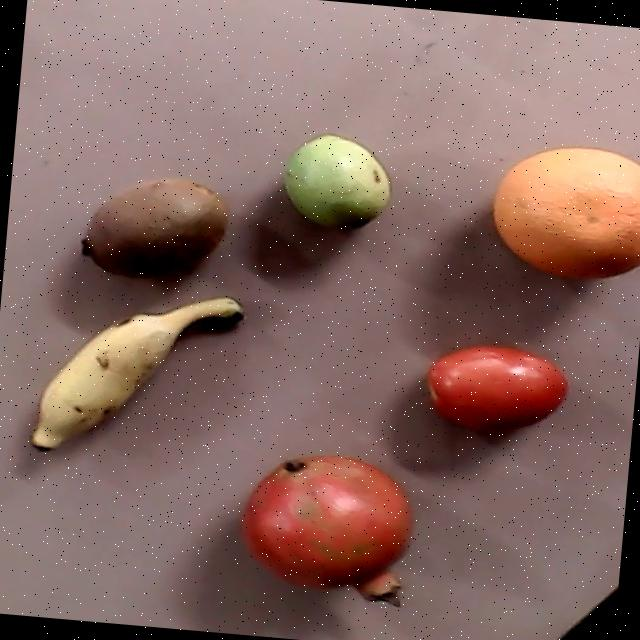kiwi: (80, 178, 228, 279)
lemon: (283, 132, 392, 227)
orange: (492, 146, 640, 278)
pomegranate: (240, 454, 410, 607)
tomato: (424, 345, 570, 431)
